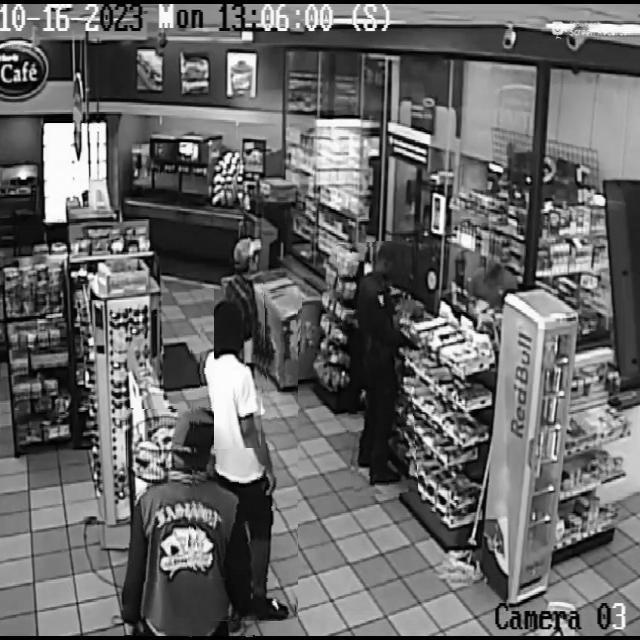Normal: (189, 289, 298, 621), (124, 408, 255, 640), (341, 241, 414, 496), (214, 229, 264, 449)
